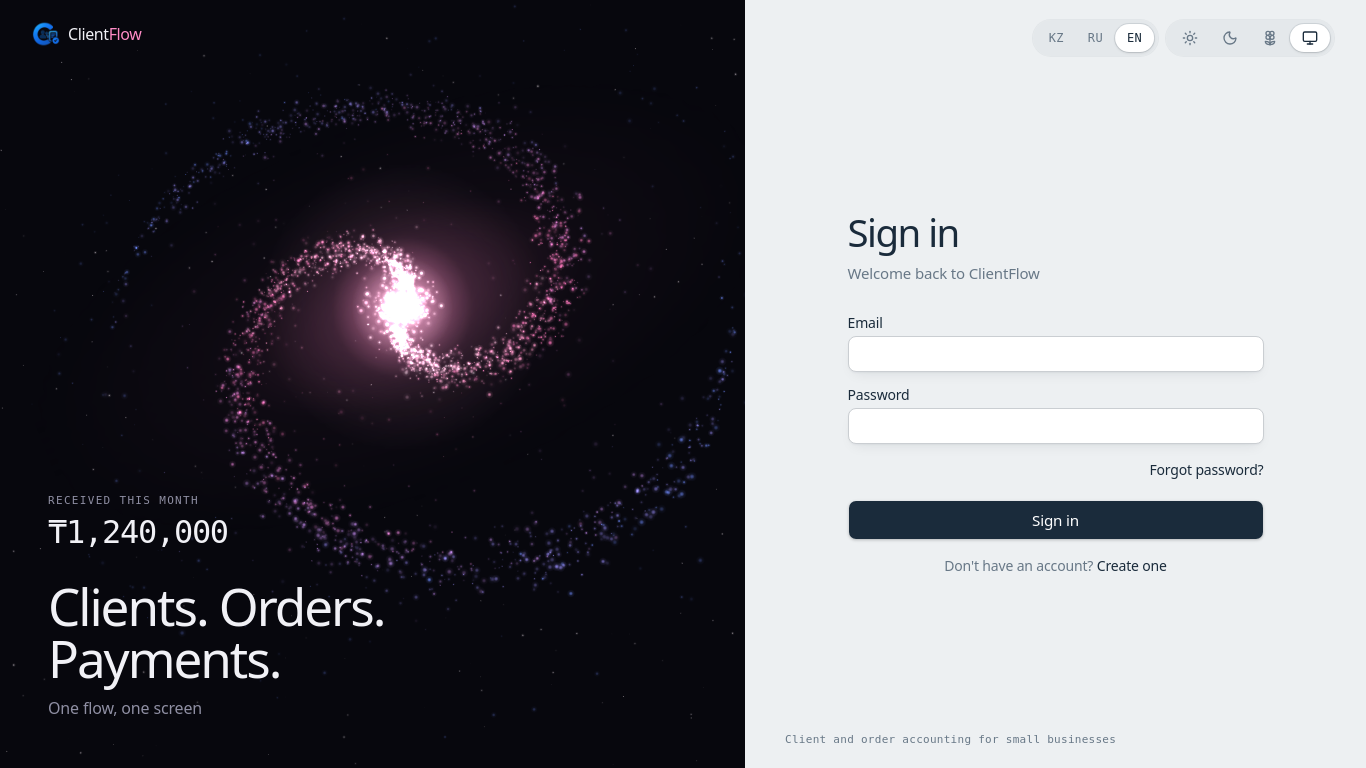
login page › sends the CSRF token and opens the home page after signing in
In the field labelled "Email": x=1056, y=354 [848,336,1264,372], type "aigerim@example.com"
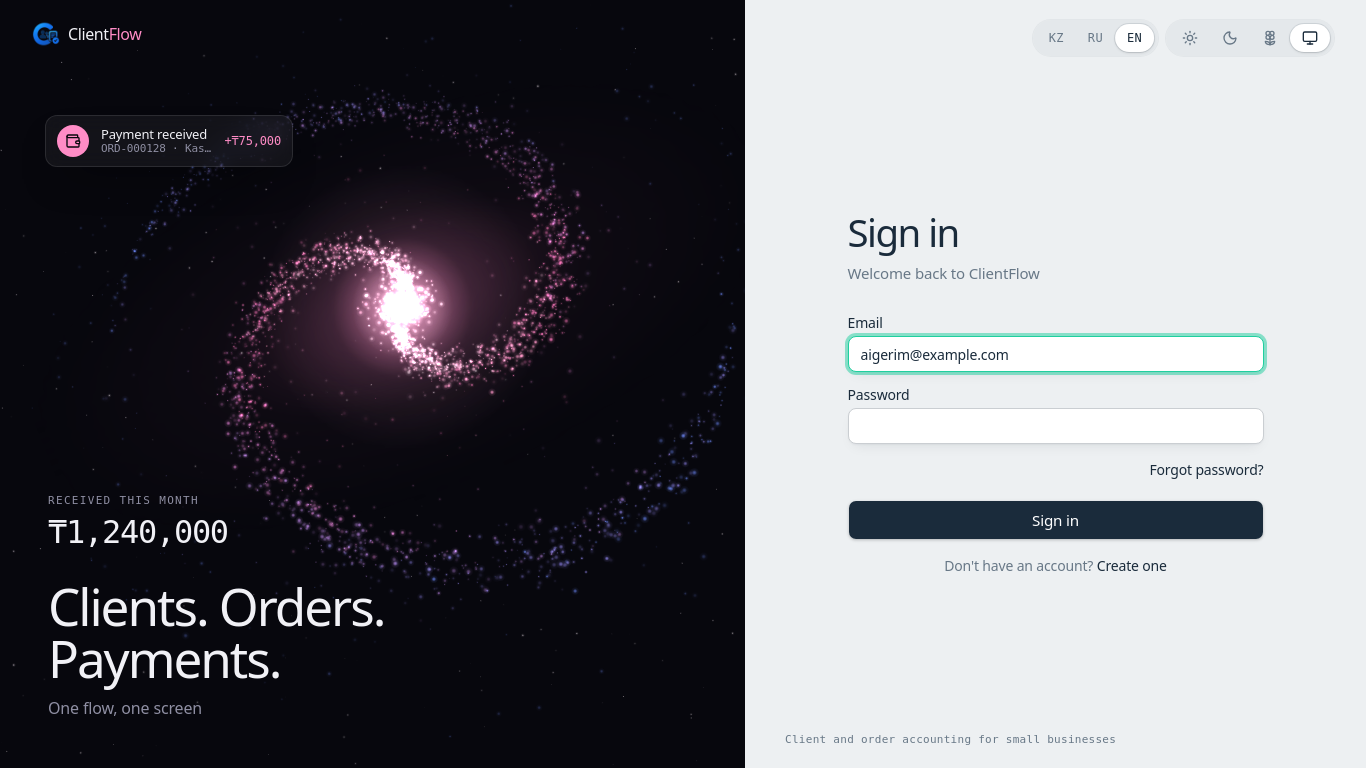
In the password field labelled "Password": x=1056, y=426 [848,408,1264,444], type "Str0ngPassw0rd!"
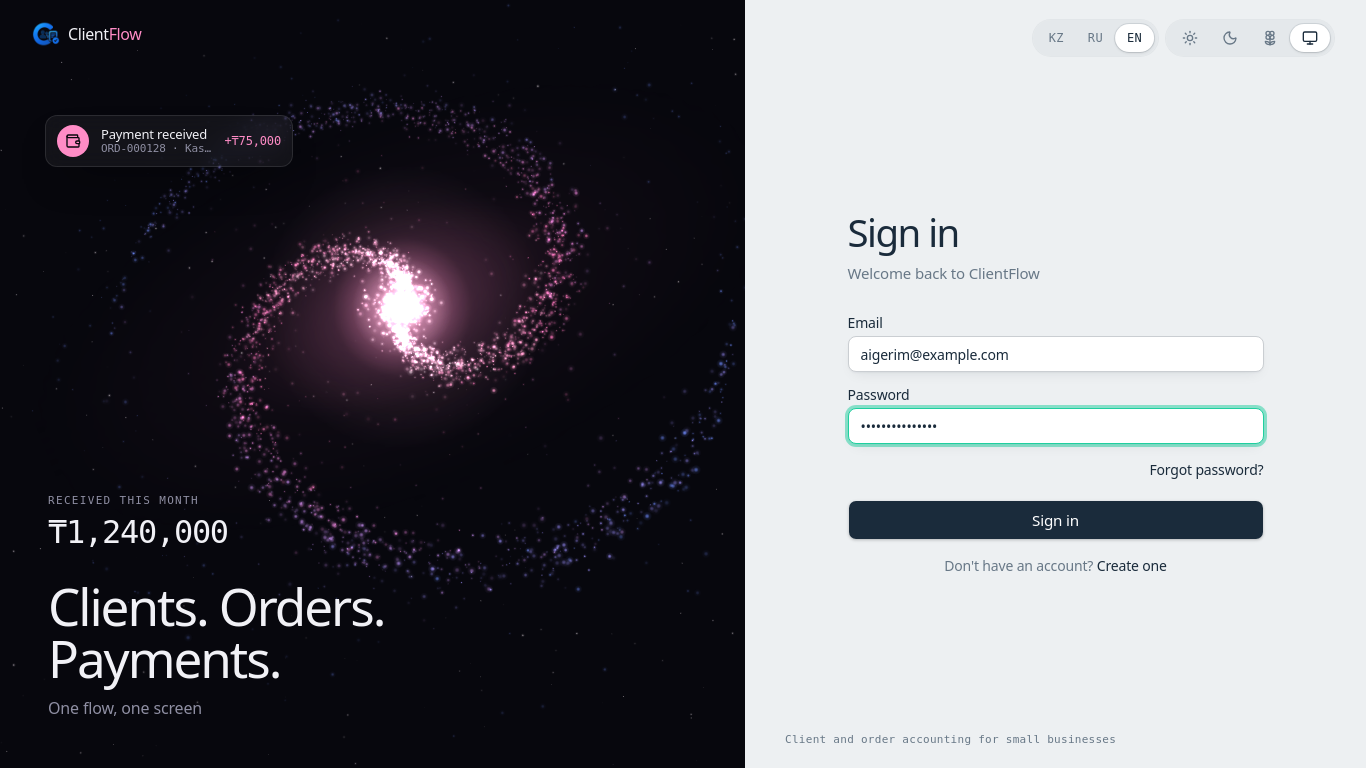
Click the button "Sign in": x=1056, y=520 [848,500,1264,540]
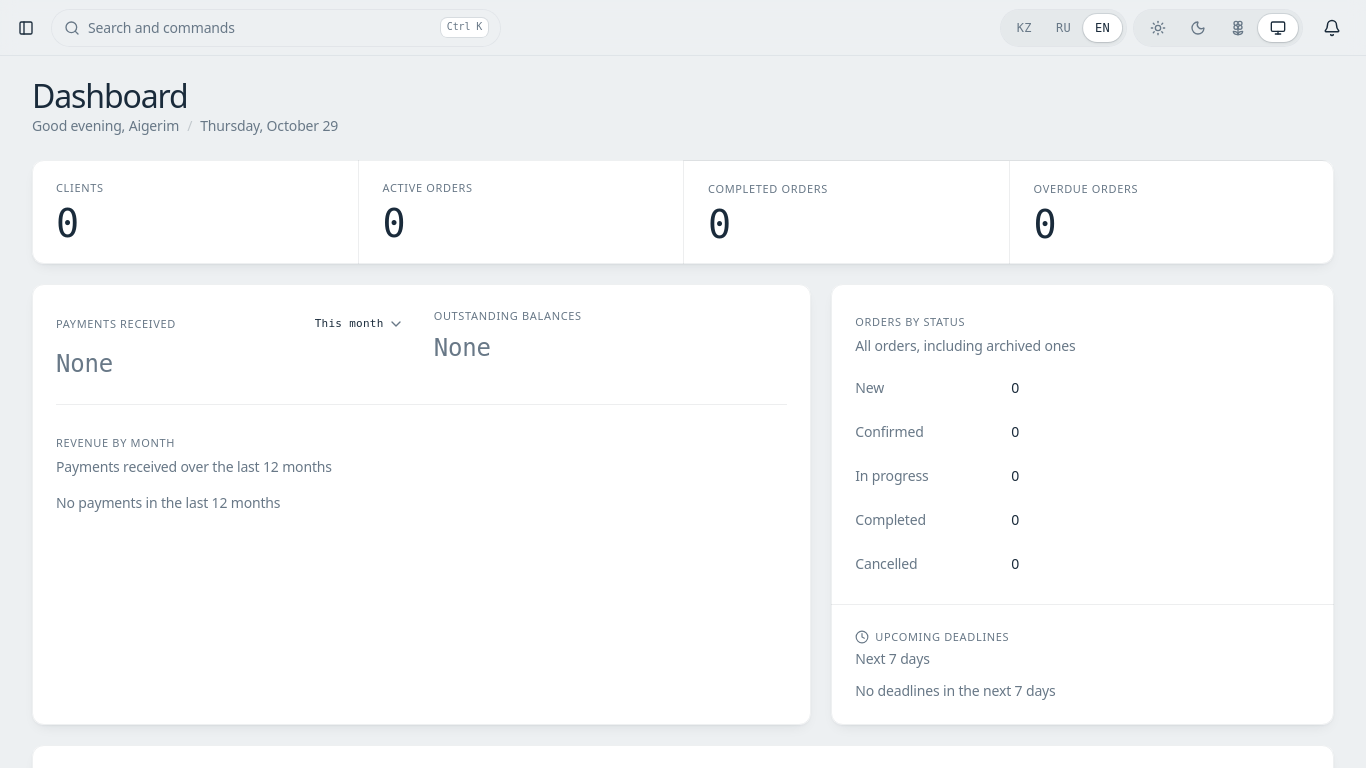
Check: the heading "Dashboard" is shown, box [32,74,188,117]
